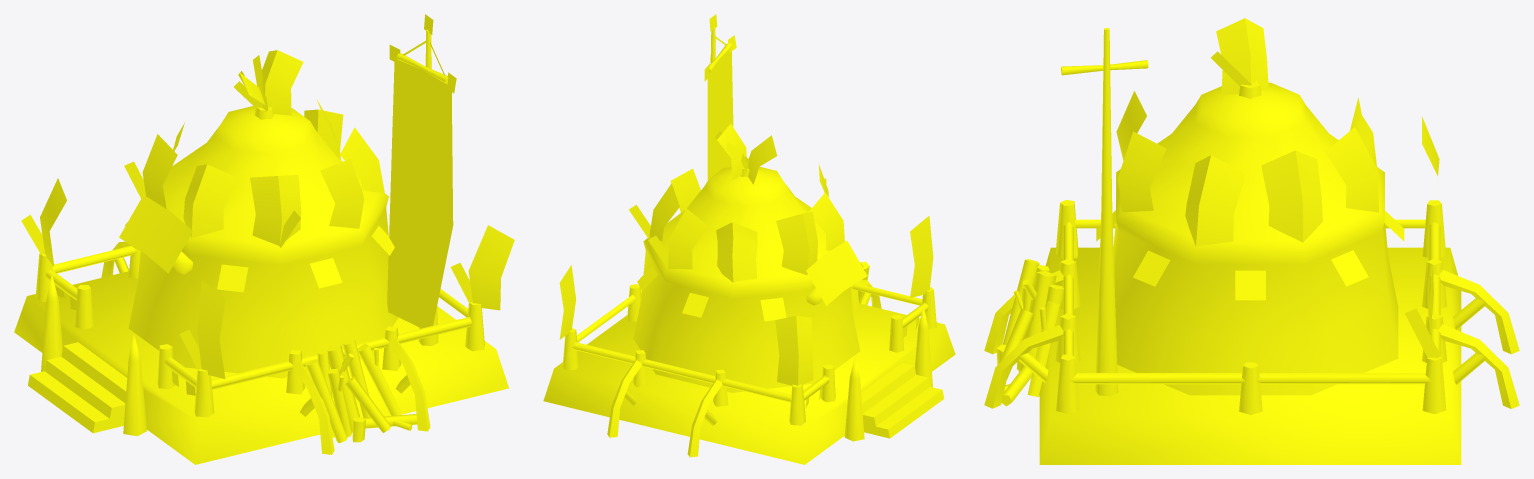
File: target.glb
The picture shows the model from 3 angles, left to right: view 1: azimuth 30°, elevation 25°; view 2: azimuth 150°, elevation 25°; view 3: azimuth 270°, elevation 25°; orthographic projection. The views are drawn at different scales.
Parts seen in each view (by area): view 1: Box01, Yurt03, Object02; view 2: Box01, Yurt03, Object02; view 3: Yurt03, Box01, Object02.
Boxes of the visible parts, box(x1,y1,x2,y2) form: Box01: box(21, 14, 514, 454); Yurt03: box(125, 106, 398, 378); Object02: box(14, 271, 508, 464); Box01: box(559, 14, 936, 457); Yurt03: box(633, 166, 863, 392); Object02: box(543, 303, 955, 464); Yurt03: box(1096, 81, 1404, 395); Box01: box(984, 18, 1519, 414); Object02: box(1039, 247, 1461, 464).
Bounding box in the file's own units: 14.01 × 13.36 × 15.31.
Materials: 3 (3 with a texture image).
